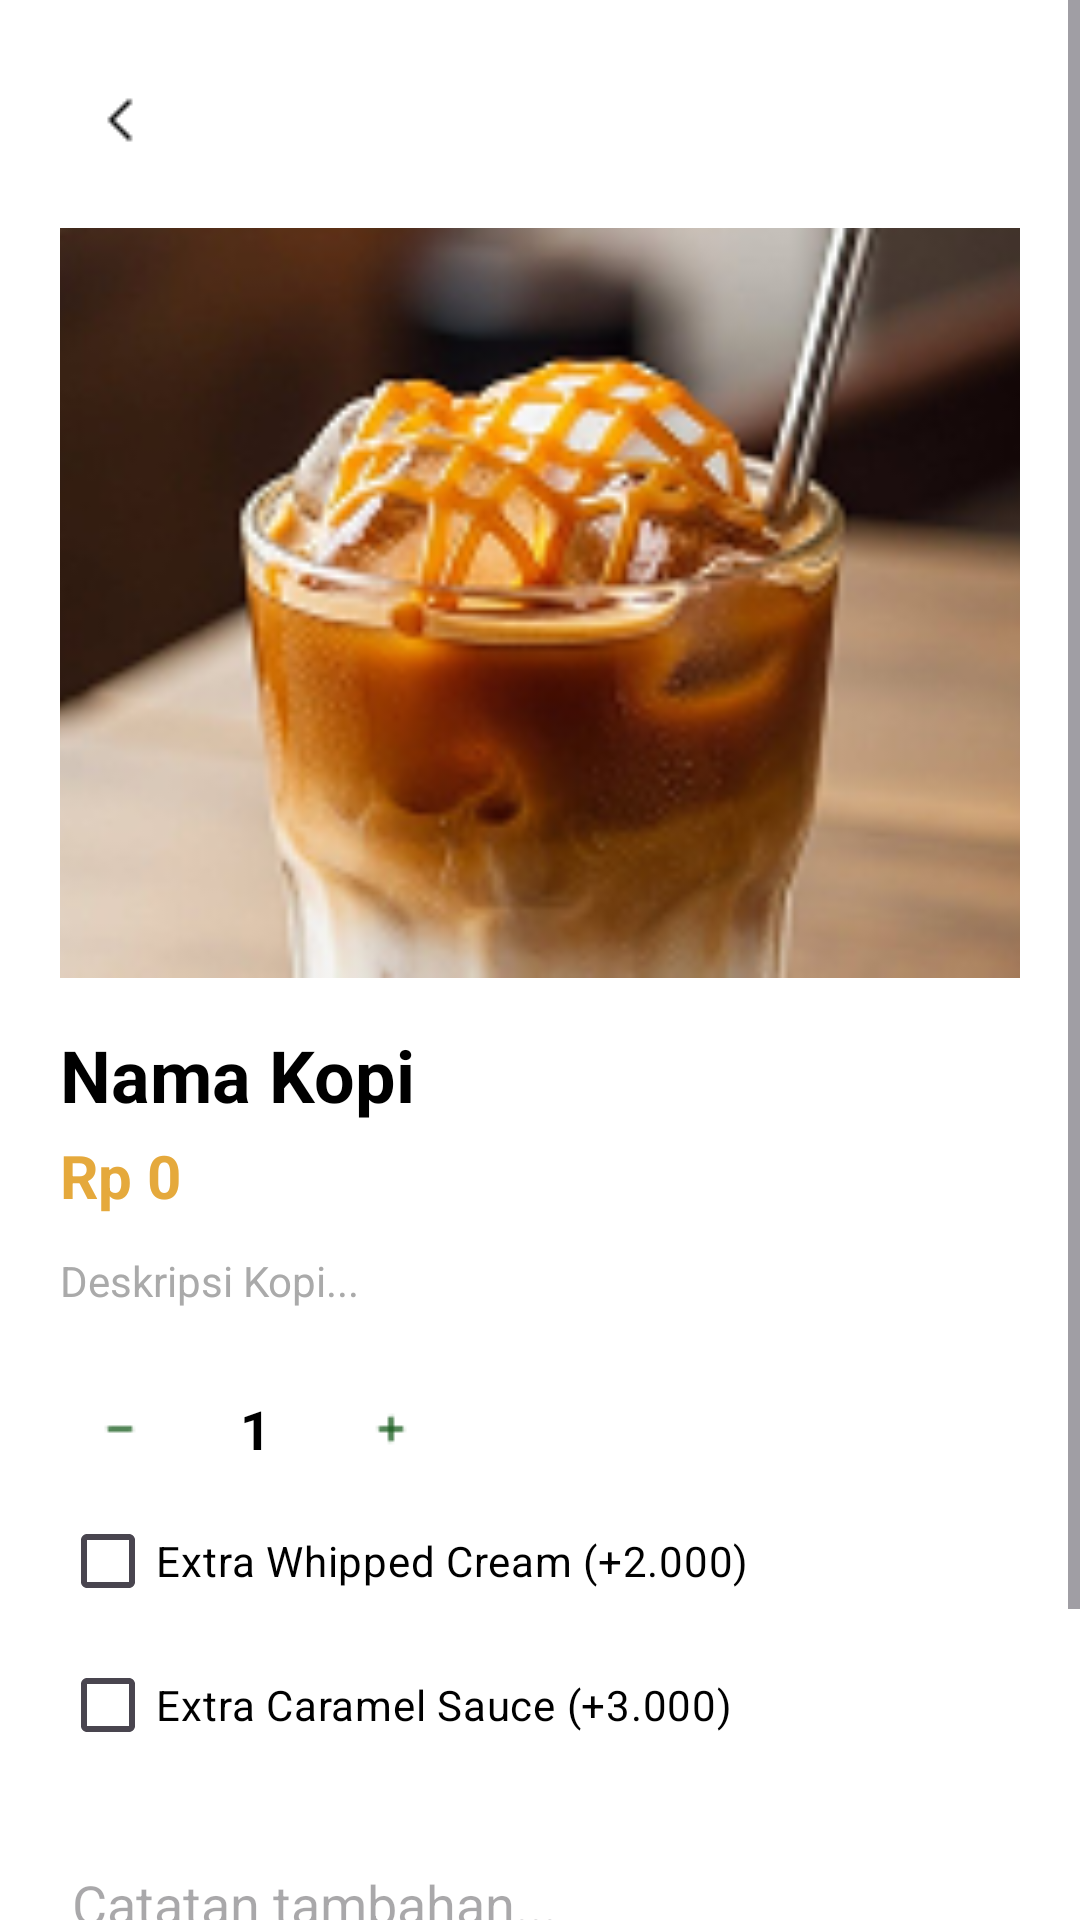

Locate icon controls on the screen. Image size 1080px x 1920px, boxes as (x1, y1, x2, y2).
Kembali: (107, 98, 133, 142)
plus: (377, 1415, 405, 1443)
